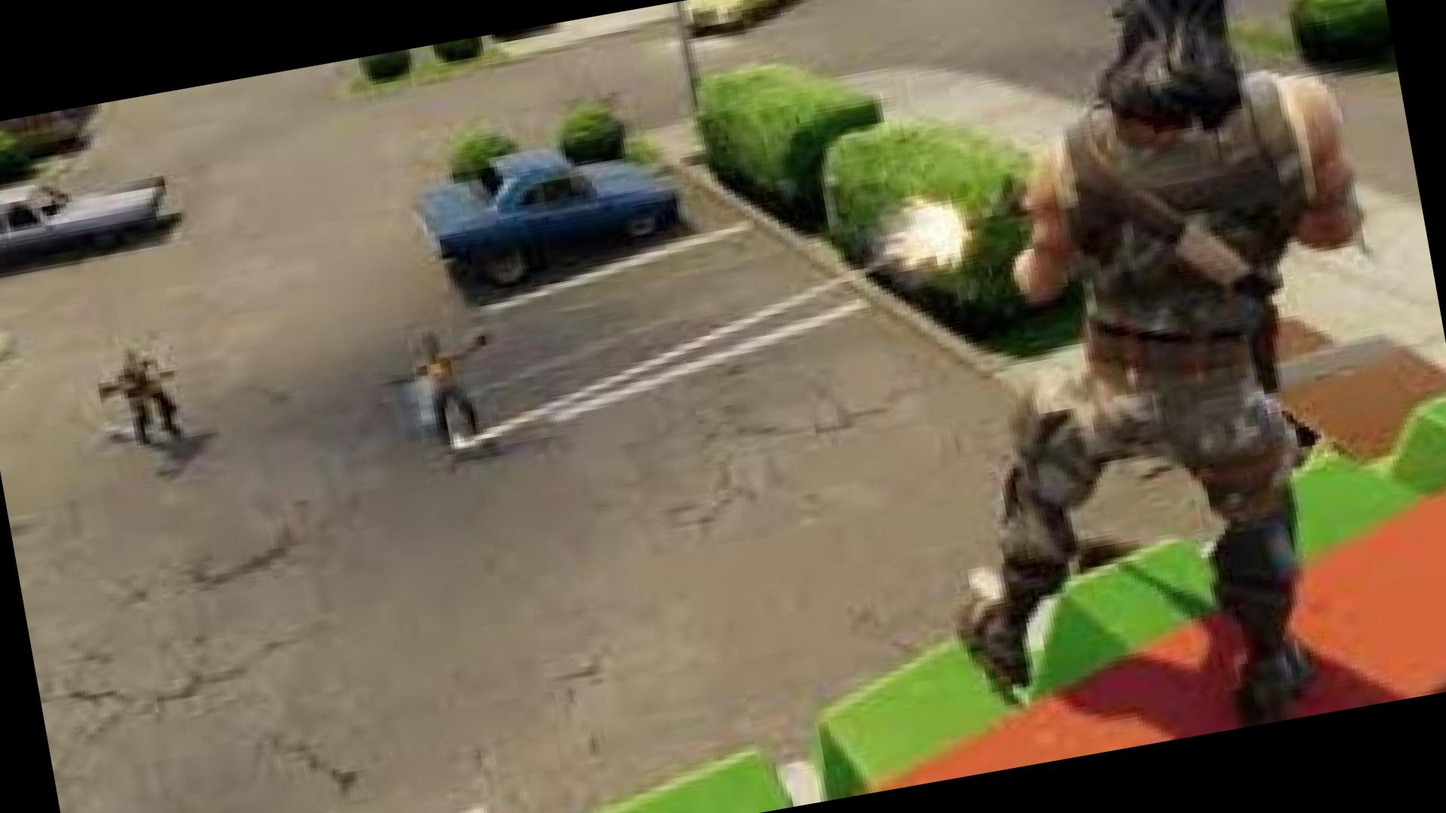player: (1023, 0, 1379, 697), (397, 335, 497, 446), (101, 350, 196, 457)
